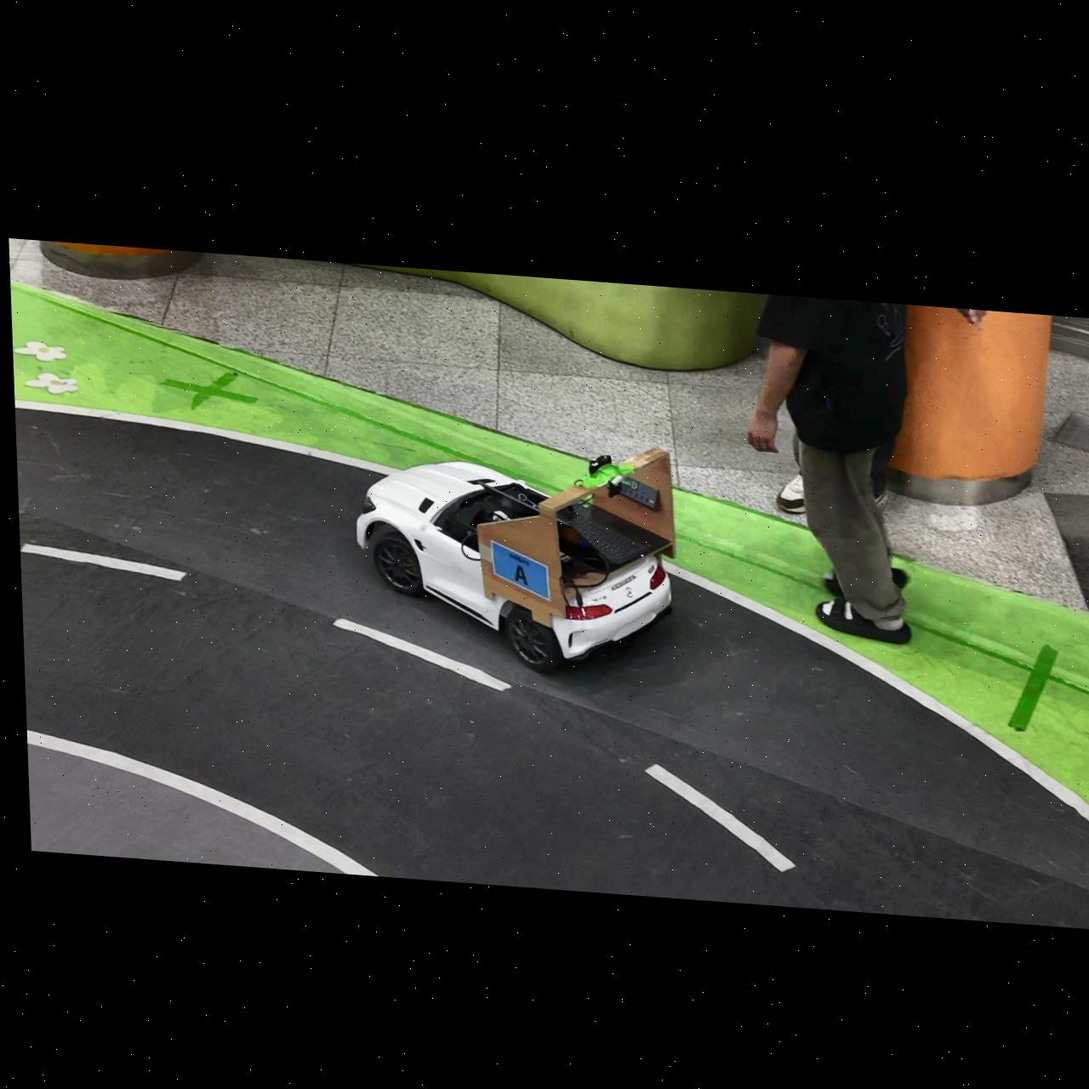broken_line: (645, 764, 797, 872), (332, 618, 512, 691), (20, 543, 187, 581)
